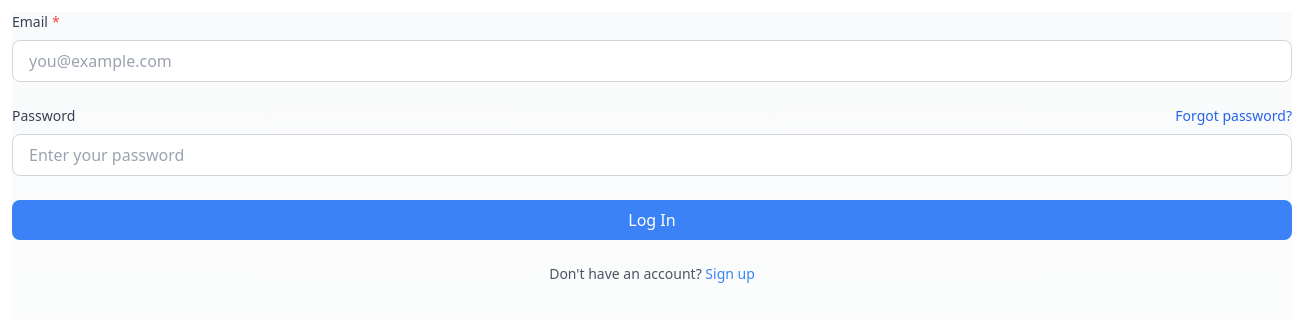
Test: LoginForm › validates password is required
Fill email and password, then clear password to trigger validation
Type "test@example.com" into the field labelled "Email*".
click(652, 61); type("test@example.com")  # box [12,40,1292,82]
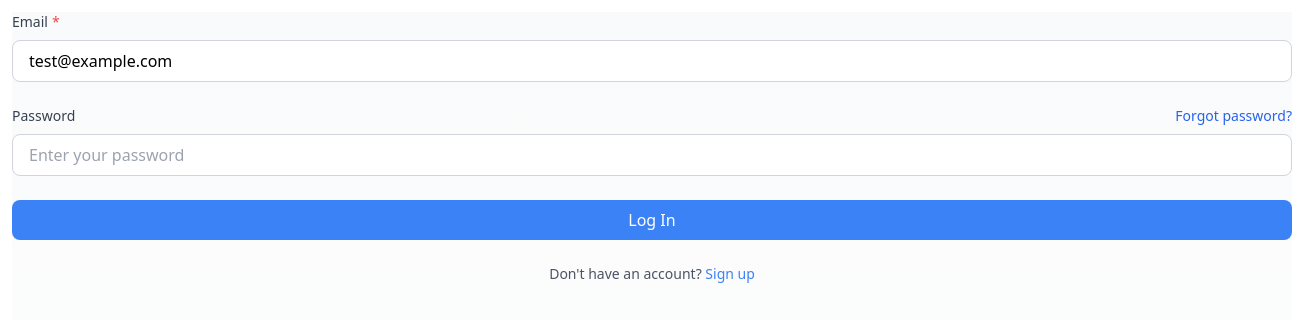
Type "temporary" into the password field labelled "Password".
click(652, 155); type("temporary")  # box [12,134,1292,176]
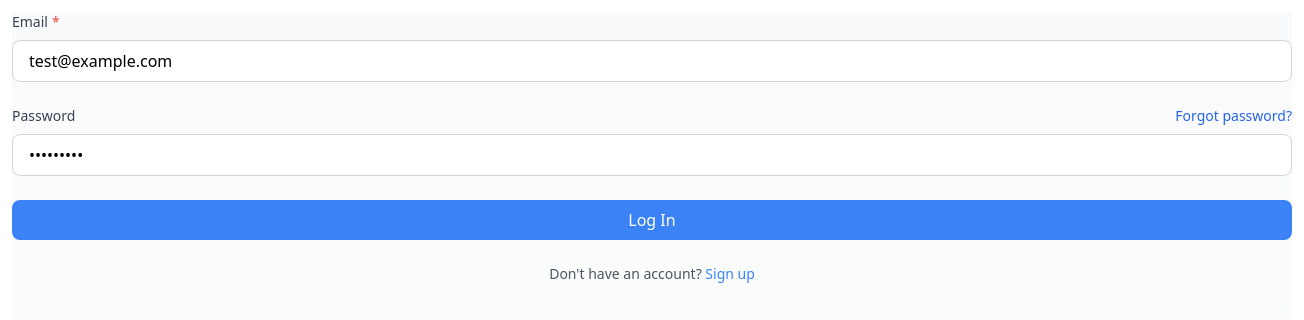
Clear the password field labelled "Password" at (652, 155), box [12,134,1292,176]
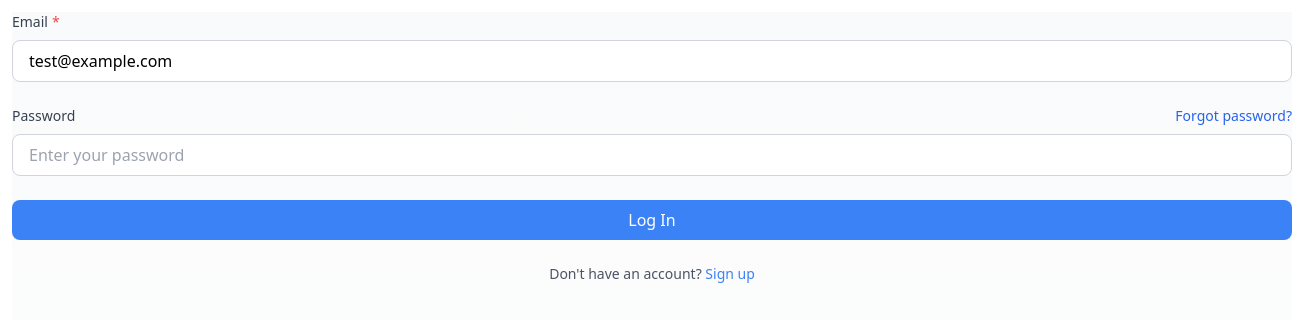
Click the button "Log In".
click(652, 220)  # box [12,200,1292,240]
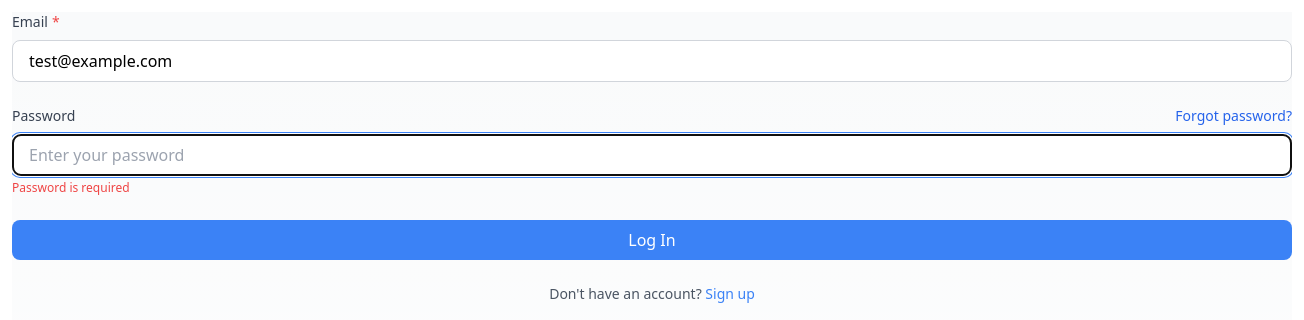
Now the text "Password is required" is shown, box [12,179,130,196]
